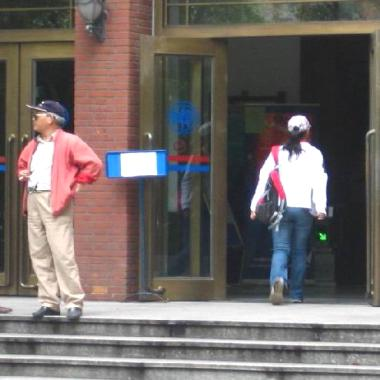ped: (19, 102, 103, 320), (253, 116, 330, 304)
